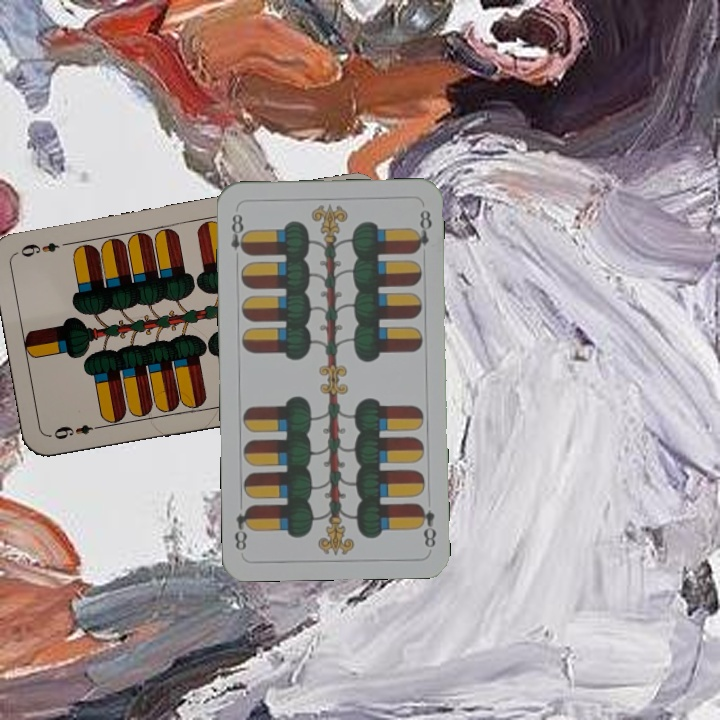E8: (414, 500, 438, 551), (227, 209, 250, 257)
E9: (50, 420, 106, 442)
